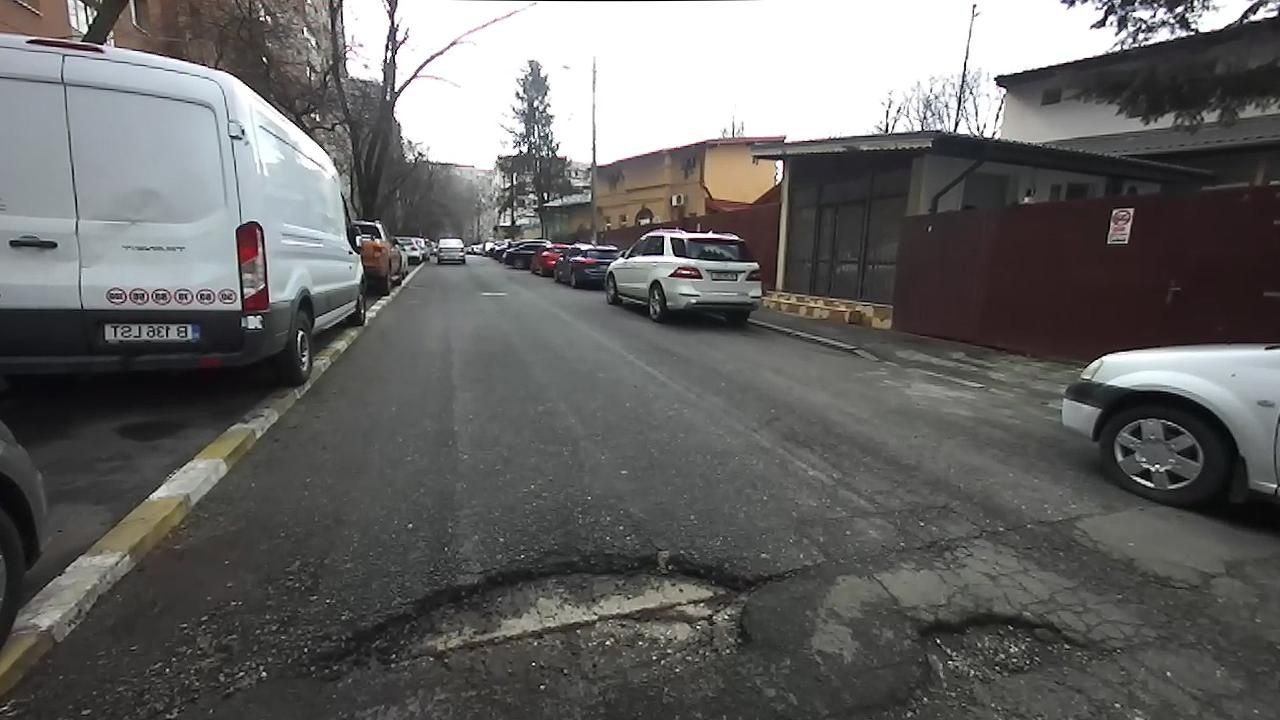pothole: (268, 545, 793, 711), (890, 609, 1107, 713)
